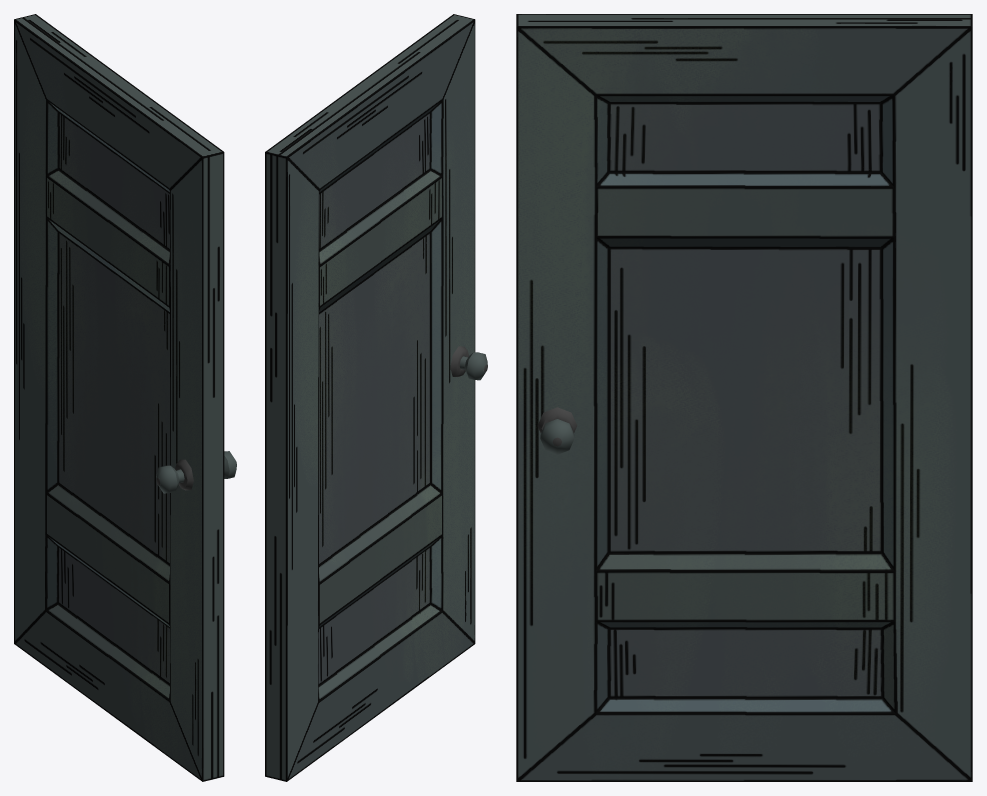
File: door without lock hole .fbx
3 renders of one model, left to right at view 1: azimuth 30°, elevation 25°; view 2: azimuth 150°, elevation 25°; view 3: azimuth 270°, elevation 25°, orthographic. The views are drawn at different scales.
Visible parts, largest first — view 1: door with lock; view 2: door with lock; view 3: door with lock.
Part boxes in pixels (<box>): door with lock: <box>14,14,236,781</box>; door with lock: <box>265,14,487,781</box>; door with lock: <box>516,14,972,781</box>.
Size of the model in its own units: 0.3944 by 3.07 by 1.68.
Materials: 1 (1 with a texture image).
